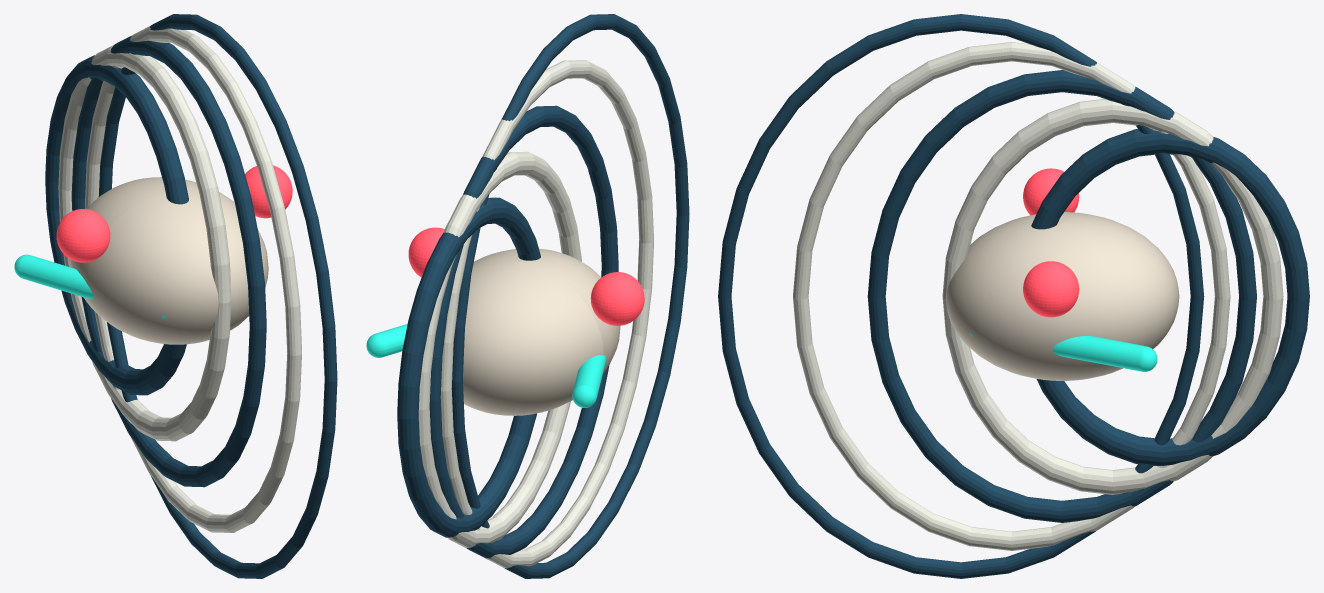
Rendered from landmark-high.glb.
3 renders of one model, left to right at view 1: azimuth 30°, elevation 25°; view 2: azimuth 150°, elevation 25°; view 3: azimuth 270°, elevation 25°, orthographic. The views are drawn at different scales.
Visible parts, largest first — view 1: accent_static, porcelain_static, motion-organ, hazard_static, motion-conduit_-1; view 2: accent_static, porcelain_static, motion-organ, hazard_static, motion-conduit_-1, motion-conduit_1; view 3: accent_static, porcelain_static, motion-organ, hazard_static, motion-conduit_1.
Boxes of the visible parts, bbox=[...] form: accent_static: bbox=[45, 14, 337, 578]; porcelain_static: bbox=[58, 26, 301, 532]; motion-organ: bbox=[70, 177, 268, 344]; hazard_static: bbox=[56, 165, 292, 262]; motion-conduit_-1: bbox=[14, 254, 165, 318]; accent_static: bbox=[397, 14, 689, 578]; porcelain_static: bbox=[418, 60, 653, 568]; motion-organ: bbox=[463, 248, 620, 415]; hazard_static: bbox=[408, 227, 644, 325]; motion-conduit_-1: bbox=[572, 355, 606, 407]; motion-conduit_1: bbox=[366, 324, 407, 357]; accent_static: bbox=[718, 14, 1309, 578]; porcelain_static: bbox=[793, 42, 1283, 550]; motion-organ: bbox=[946, 212, 1179, 380]; hazard_static: bbox=[1023, 168, 1079, 317]; motion-conduit_1: bbox=[970, 333, 1157, 371].
Bounding box in the file's own units: 706 × 1593 × 1515.
